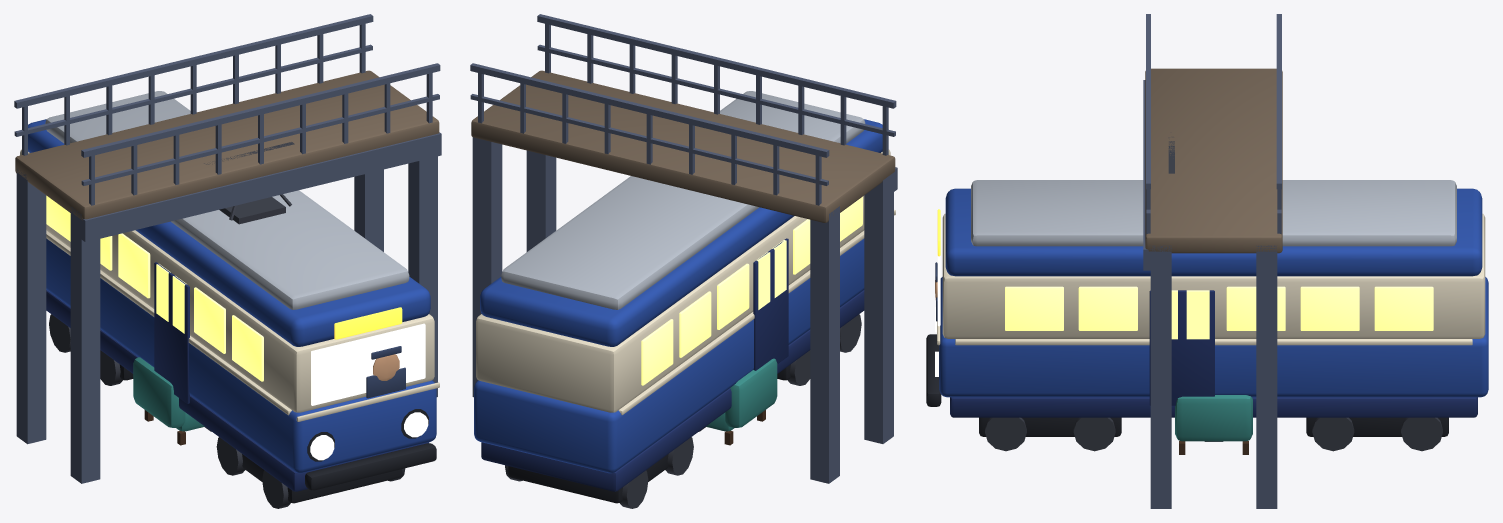
Rendered from actors.glb.
3 views of the same model, side by side, from view 1: azimuth 30°, elevation 25°; view 2: azimuth 150°, elevation 25°; view 3: azimuth 270°, elevation 25° (orthographic). The views are drawn at different scales.
Visible parts, largest first — view 1: tram_body, footbridge_body, sofa_body; view 2: tram_body, footbridge_body, sofa_body; view 3: tram_body, footbridge_body, sofa_body.
Part boxes in pixels (left/top/right/bottom): tram_body: left=20, top=91, right=439, bottom=508; footbridge_body: left=14, top=14, right=441, bottom=483; sofa_body: left=133, top=357, right=204, bottom=445; tram_body: left=474, top=91, right=895, bottom=508; footbridge_body: left=470, top=14, right=897, bottom=483; sofa_body: left=706, top=358, right=777, bottom=445; tram_body: left=926, top=137, right=1488, bottom=451; footbridge_body: left=1143, top=14, right=1282, bottom=508; sofa_body: left=1175, top=395, right=1252, bottom=454.
Bounding box in the file's own units: 3.8 × 3.44 × 5.32.
